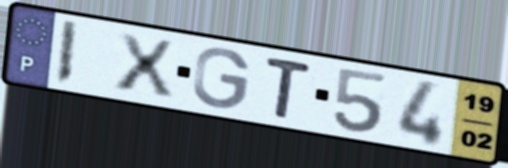4: (395, 76, 448, 150)
5: (330, 66, 389, 135)
G: (190, 46, 254, 111)
I: (52, 17, 81, 88)
T: (262, 54, 315, 123)
X: (112, 30, 177, 100)
